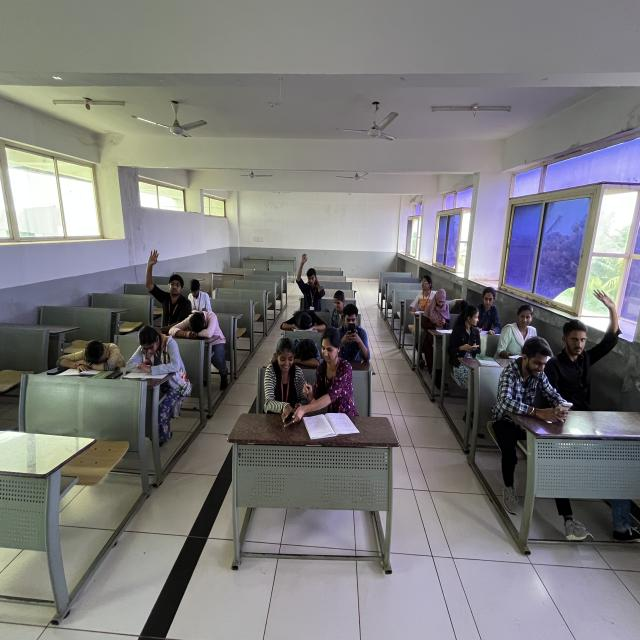Hand Rising: (544, 285, 633, 398), (127, 234, 204, 331), (289, 254, 332, 314)
Reading: (114, 318, 198, 414), (181, 264, 228, 321)
Sleeping: (38, 328, 136, 406), (161, 291, 236, 358), (283, 299, 330, 337), (447, 288, 478, 316)
Using Phone: (260, 336, 344, 429), (504, 336, 574, 431), (332, 302, 376, 354), (448, 310, 492, 359), (424, 291, 456, 330)
Writing: (472, 282, 509, 336)
